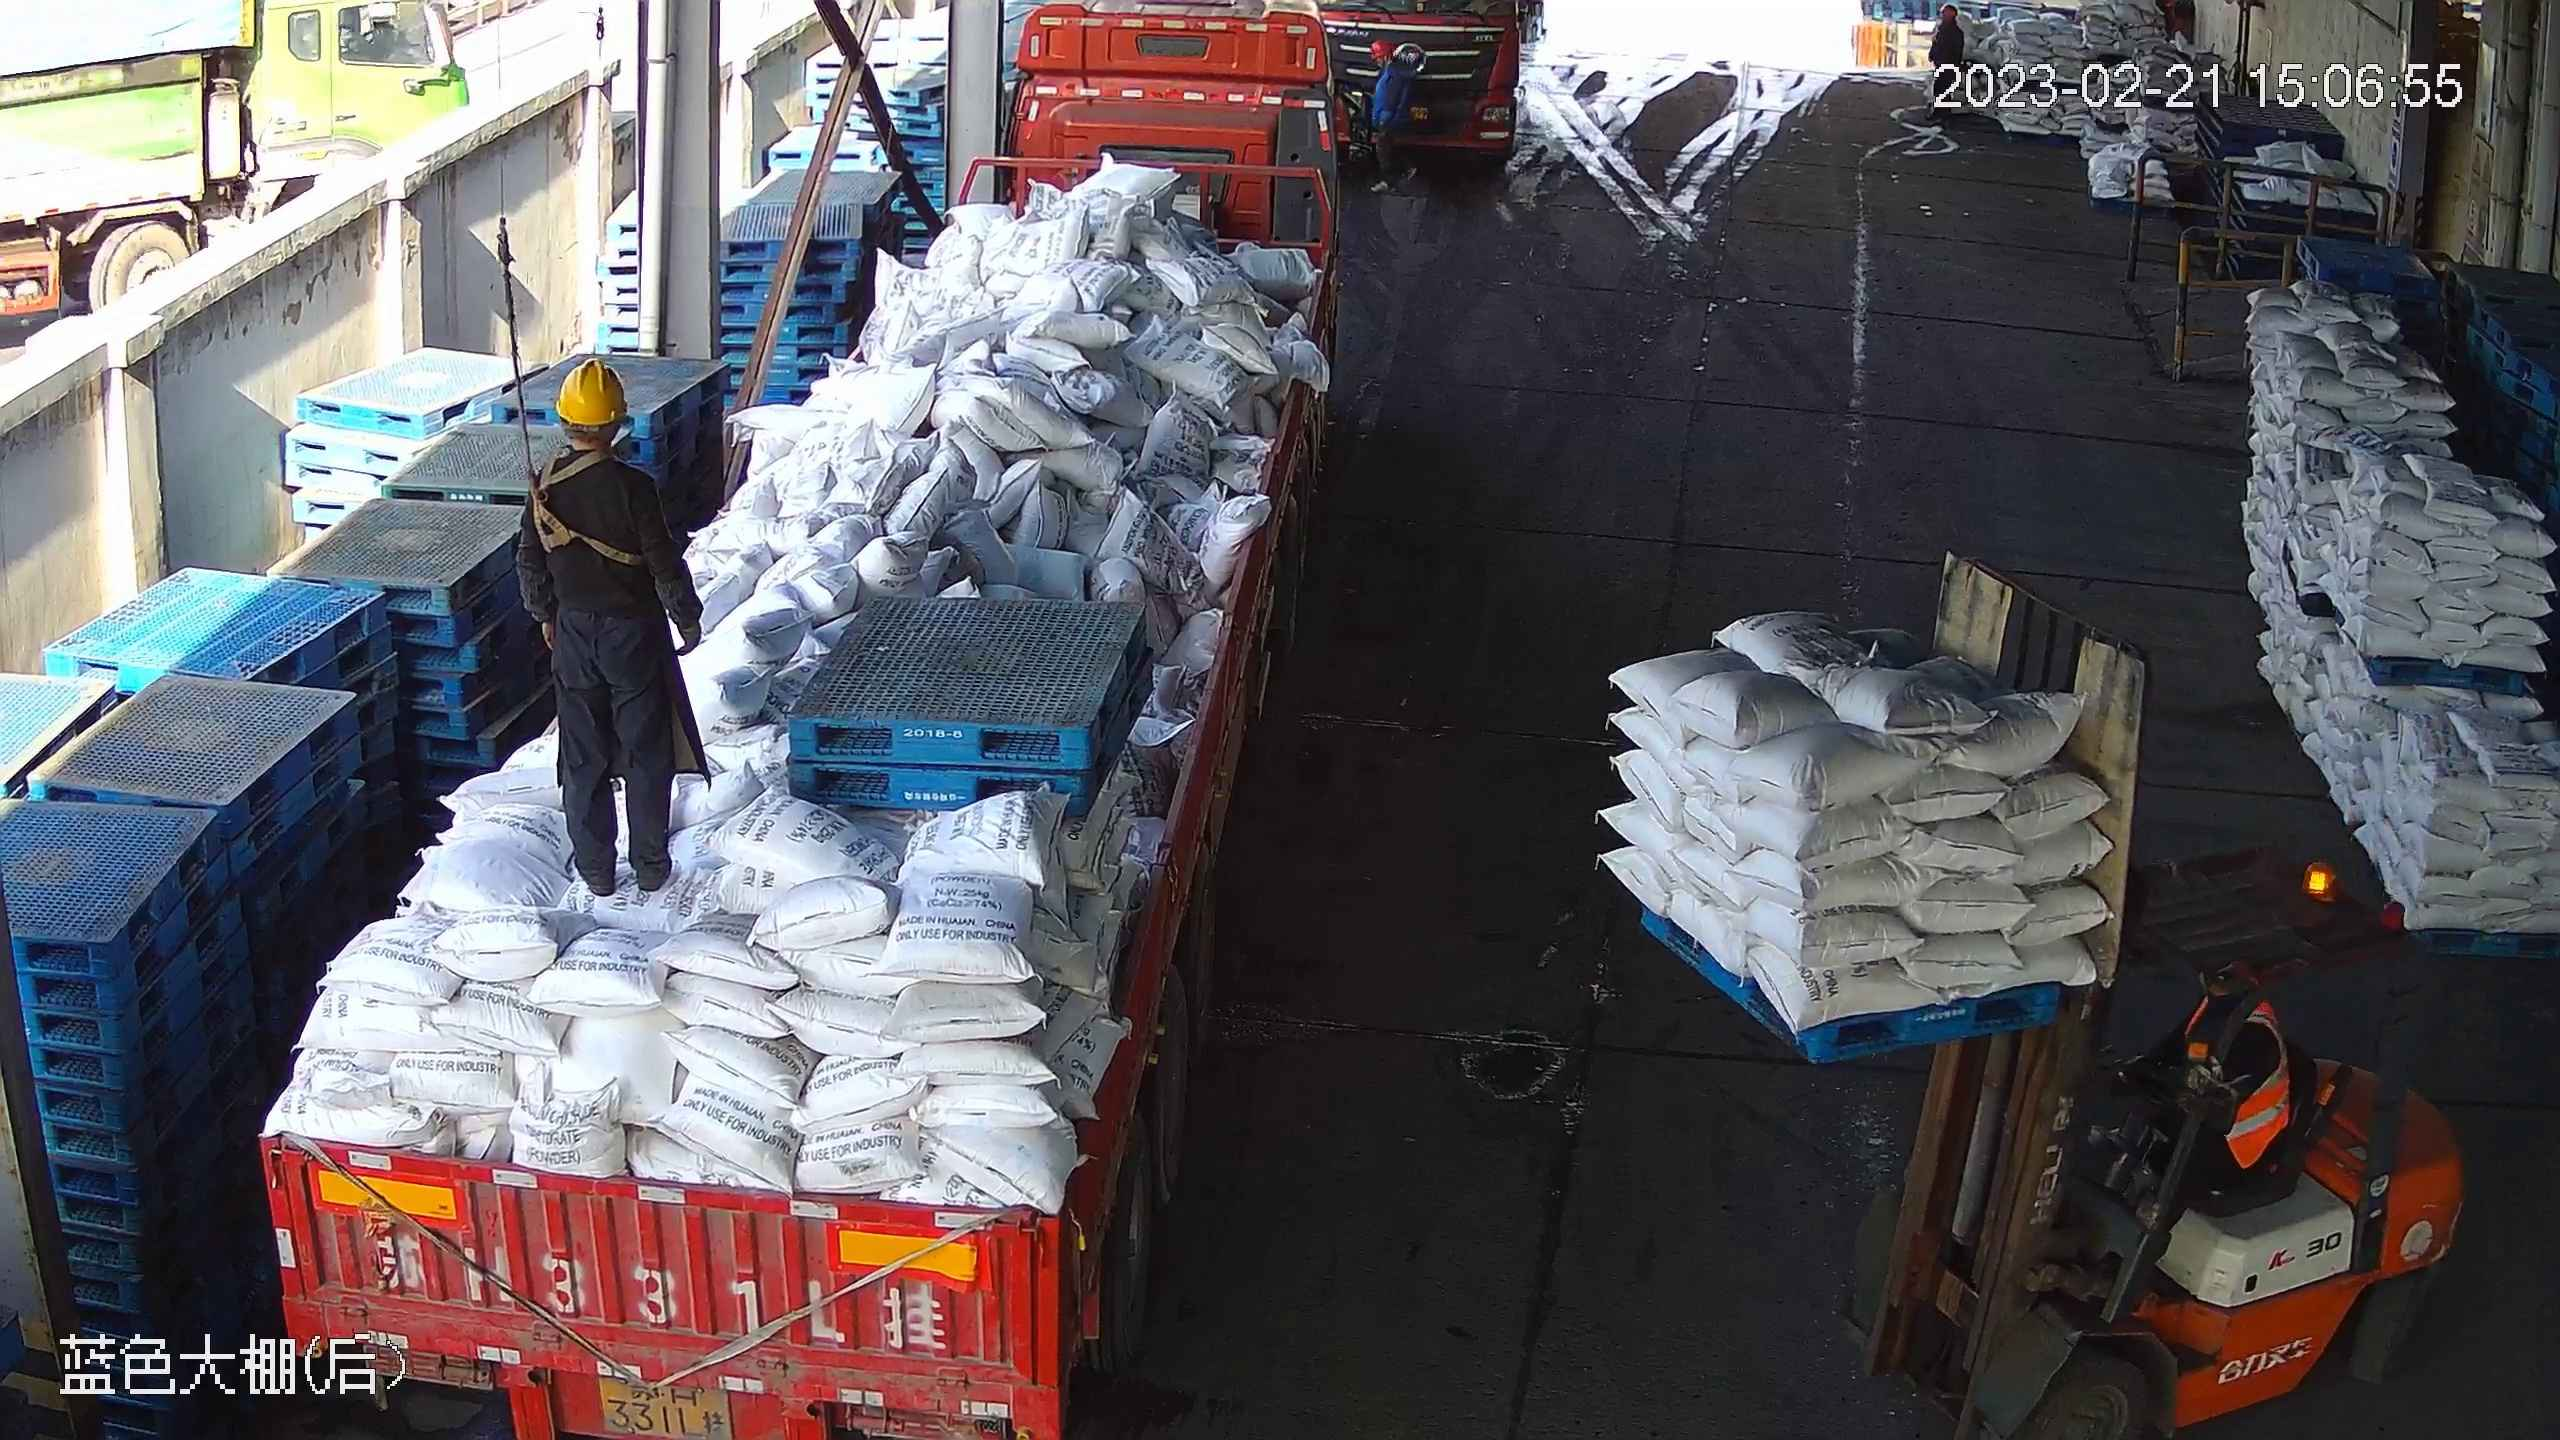belt: (517, 444, 651, 568)
head: (525, 356, 661, 503)
helmet: (554, 357, 628, 427)
people: (510, 356, 716, 896)
truck: (246, 1, 1346, 1436)
